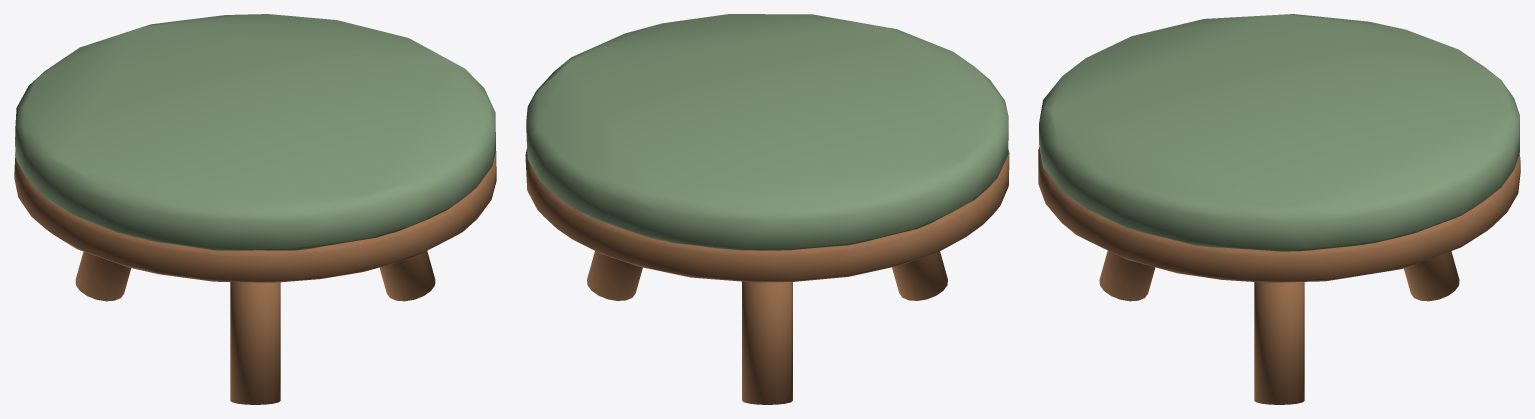
File: stool.glb
3 renders of one model, left to right at view 1: azimuth 30°, elevation 25°; view 2: azimuth 150°, elevation 25°; view 3: azimuth 270°, elevation 25°, orthographic.
Visible parts, largest first — view 1: Stool cushion, Stool wooden rim, Stool leg.002, Stool leg.001, Stool leg; view 2: Stool cushion, Stool wooden rim, Stool leg.001, Stool leg.002, Stool leg; view 3: Stool cushion, Stool wooden rim, Stool leg, Stool leg.001, Stool leg.002.
Boxes of the visible parts, x1,y1,x2,y2 form: Stool cushion: [15, 14, 495, 250]; Stool wooden rim: [14, 151, 496, 282]; Stool leg.002: [230, 282, 280, 404]; Stool leg.001: [75, 251, 131, 301]; Stool leg: [379, 251, 435, 301]; Stool cushion: [526, 14, 1008, 250]; Stool wooden rim: [525, 148, 1009, 282]; Stool leg.001: [742, 281, 792, 404]; Stool leg.002: [892, 251, 947, 300]; Stool leg: [587, 251, 642, 300]; Stool cushion: [1039, 14, 1519, 251]; Stool wooden rim: [1038, 147, 1520, 282]; Stool leg: [1254, 282, 1304, 404]; Stool leg.001: [1404, 251, 1459, 301]; Stool leg.002: [1099, 250, 1155, 301].
Bounding box in the file's own units: 0.8579 × 0.432 × 0.8579.
